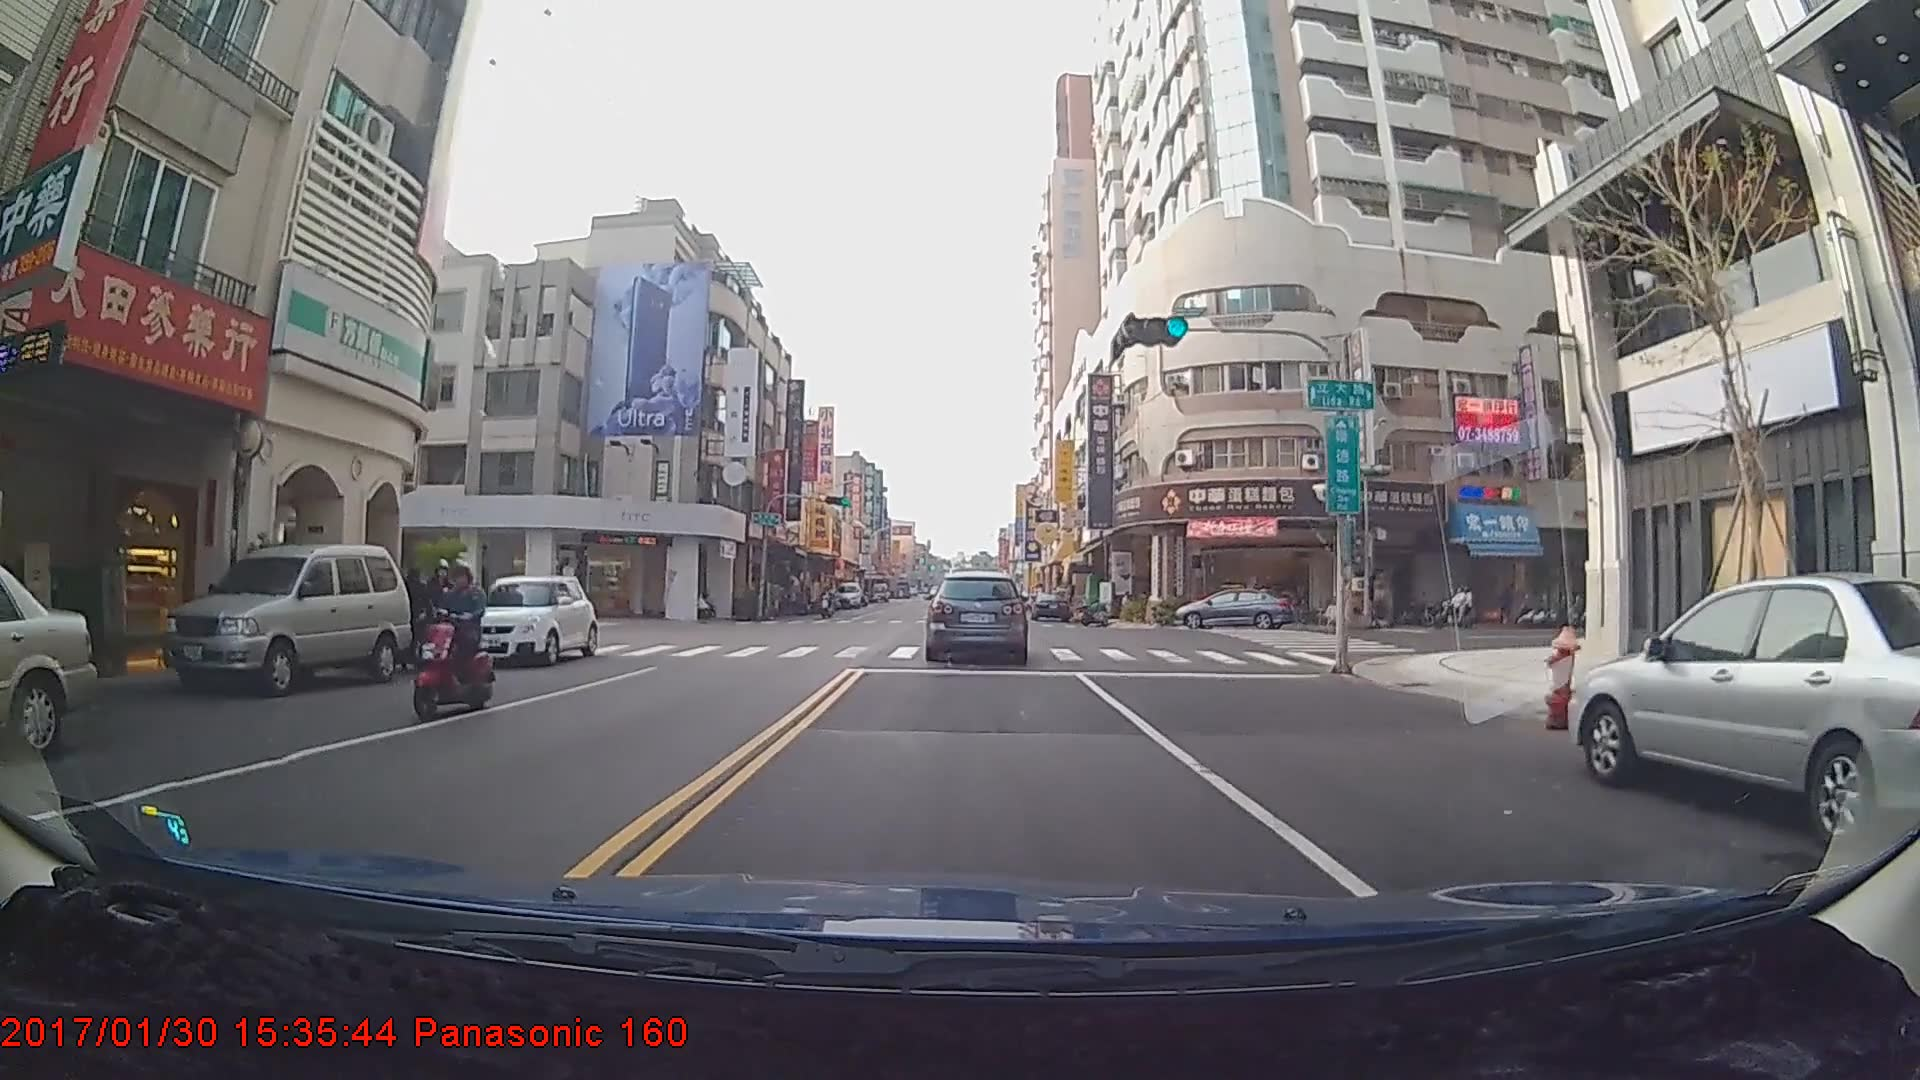rider: (409, 561, 501, 726), (1427, 582, 1476, 631), (813, 589, 840, 626)
vehicle: (1564, 571, 1918, 857), (159, 543, 412, 695), (0, 548, 99, 760), (457, 574, 596, 667), (928, 570, 1026, 662), (1173, 584, 1297, 632), (1032, 589, 1071, 619), (835, 580, 861, 609)
